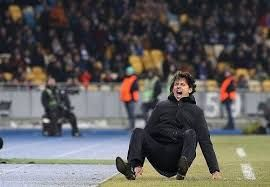10+: (1, 1, 270, 182)
down: (110, 65, 229, 182)
